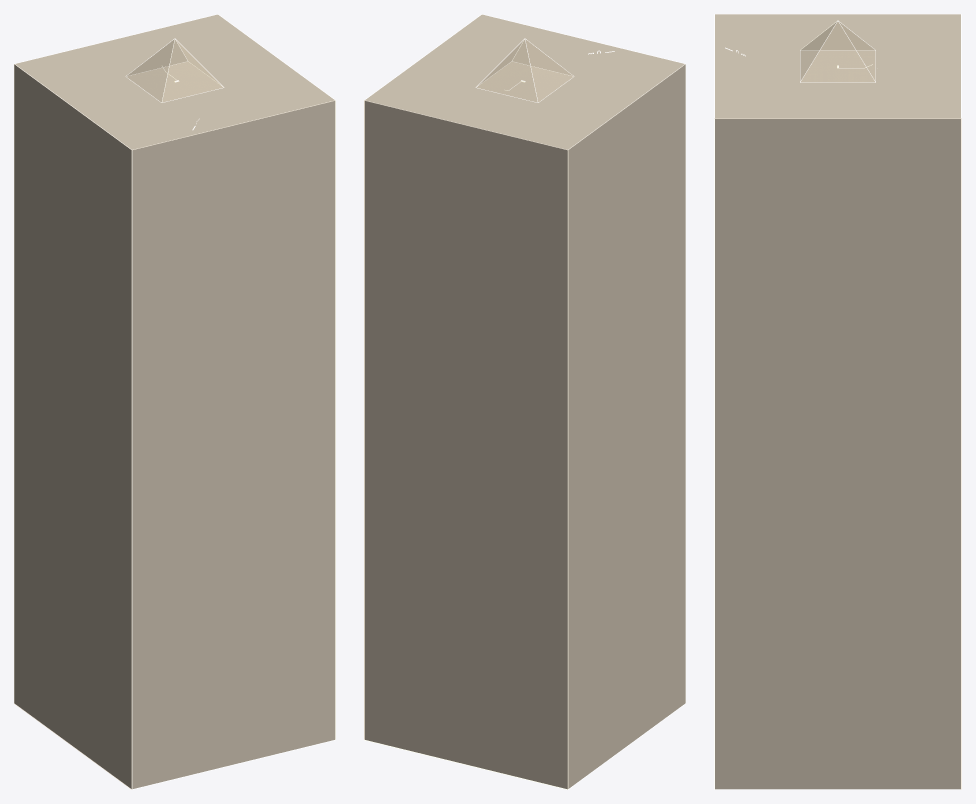
The model's file is chefren-sar.glb.
The picture shows the model from 3 angles, left to right: view 1: azimuth 30°, elevation 25°; view 2: azimuth 150°, elevation 25°; view 3: azimuth 270°, elevation 25°; orthographic projection. The views are drawn at different scales.
Parts seen in each view (by area): view 1: Grunt_blok_przezroczysty, Grunt_blok_krawedzie, Piramida_Chefrena; view 2: Grunt_blok_przezroczysty, Grunt_blok_krawedzie, Piramida_Chefrena; view 3: Grunt_blok_przezroczysty, Piramida_Chefrena, Grunt_blok_krawedzie.
Part boxes in pixels (x1,y1,x2,y2): Grunt_blok_przezroczysty: (14, 14, 335, 789); Grunt_blok_krawedzie: (14, 14, 335, 789); Piramida_Chefrena: (126, 39, 222, 101); Grunt_blok_przezroczysty: (364, 14, 685, 789); Grunt_blok_krawedzie: (364, 14, 685, 789); Piramida_Chefrena: (477, 39, 573, 101); Grunt_blok_przezroczysty: (715, 14, 960, 789); Piramida_Chefrena: (800, 22, 875, 81); Grunt_blok_krawedzie: (714, 14, 961, 789).
Bounding box in the file's own units: 701 × 2245 × 701.
